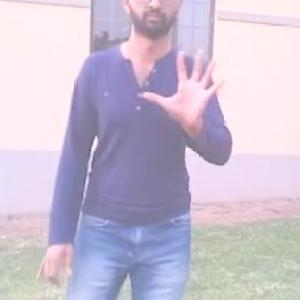follow_hand: (140, 42, 230, 126)
